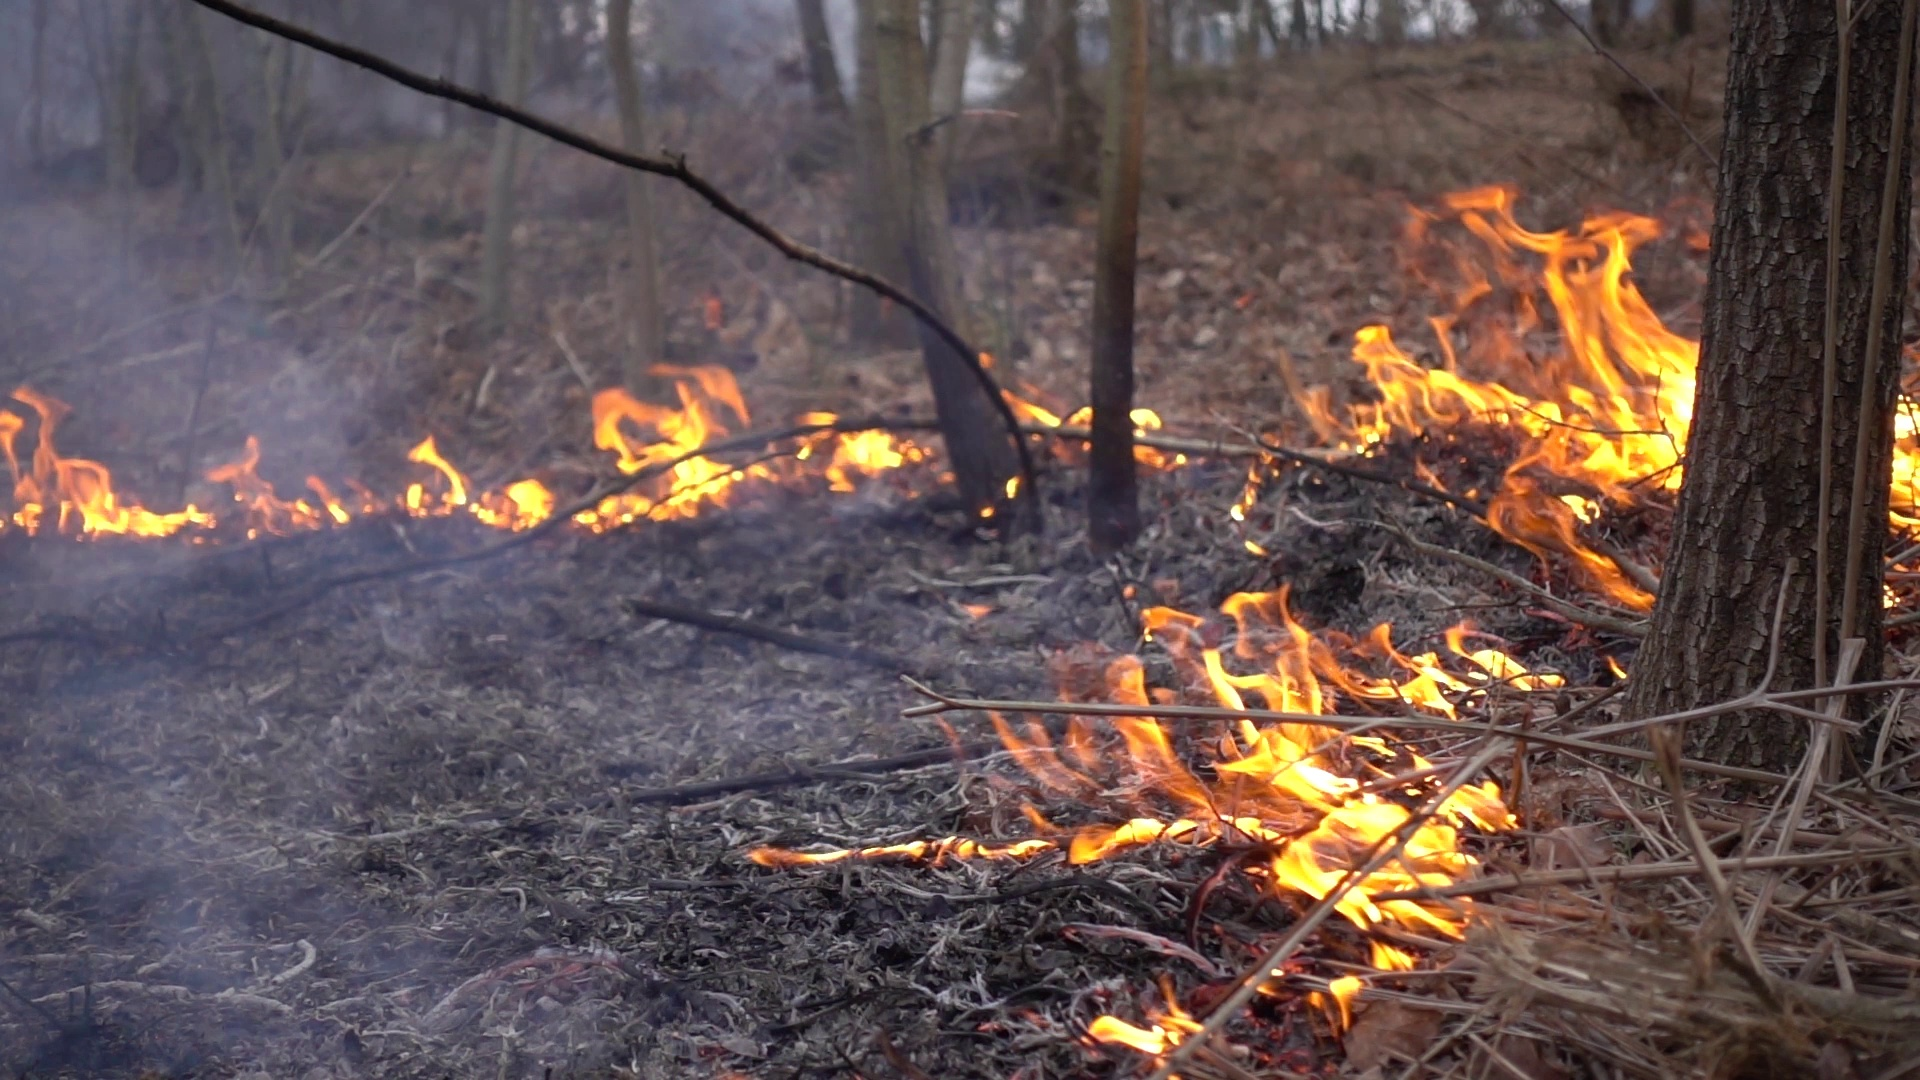fire: (982, 585, 1540, 1004), (1298, 189, 1698, 549), (1, 400, 204, 541), (585, 363, 756, 521), (411, 446, 545, 527), (829, 431, 918, 473), (1895, 400, 1920, 517)
